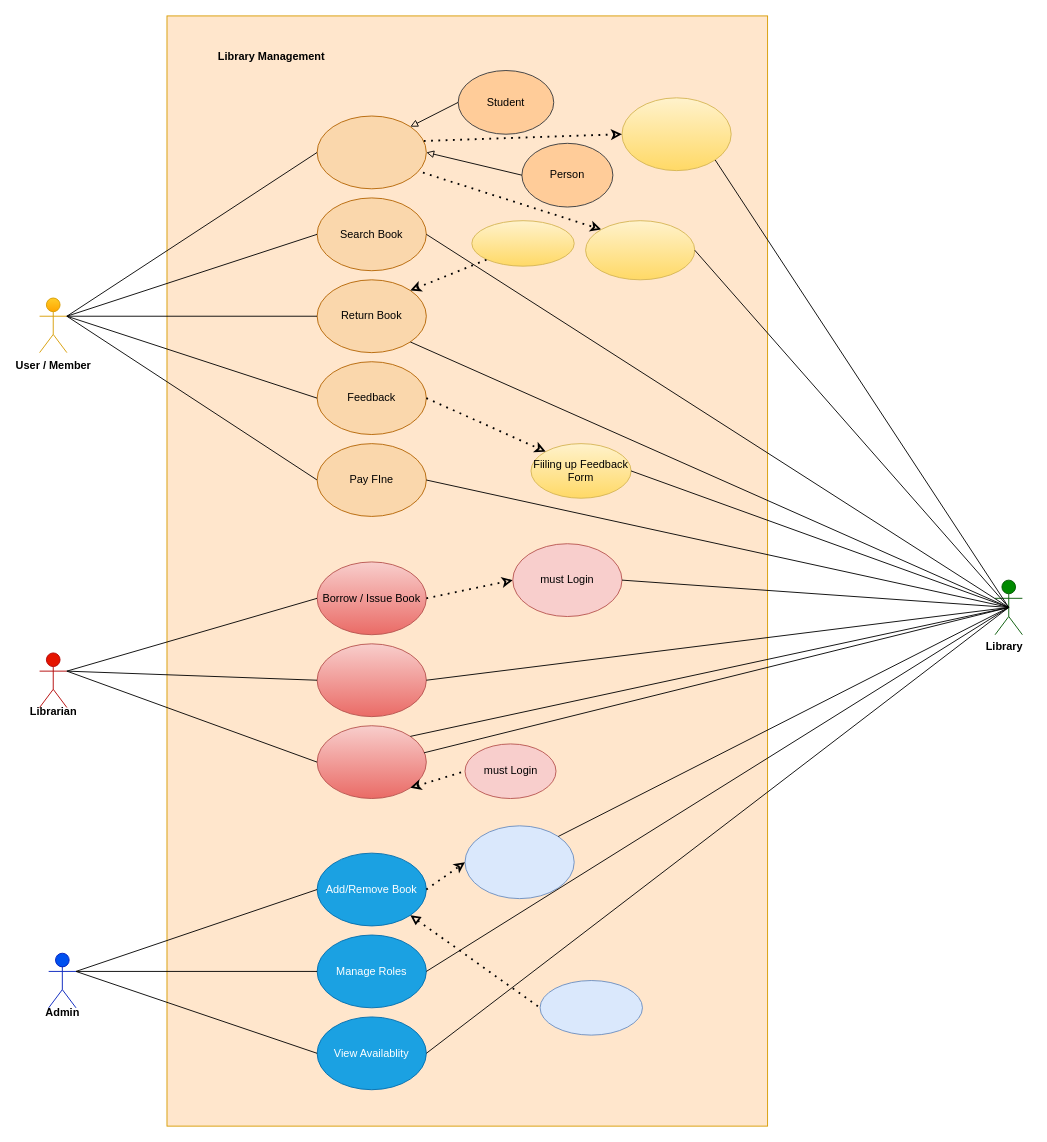
Some shapes in this 1047 by 1142 pixel diagram are drawn without their labels. The shapes that lost their labels are listed below. From the top down, each one's centre as x and y in pixels, then its label:
At (x=371, y=152): "Register/Login".
At (x=676, y=134): "Get Library Card ID".
At (x=522, y=243): "Send Notification".
At (x=640, y=250): "Fill Up Registration Form".
At (x=371, y=680): "View Borrowing History".
At (x=371, y=762): "Reserve Book".
At (x=519, y=862): "Search / Update Record".
At (x=590, y=1007): "Invalid delete ID".
